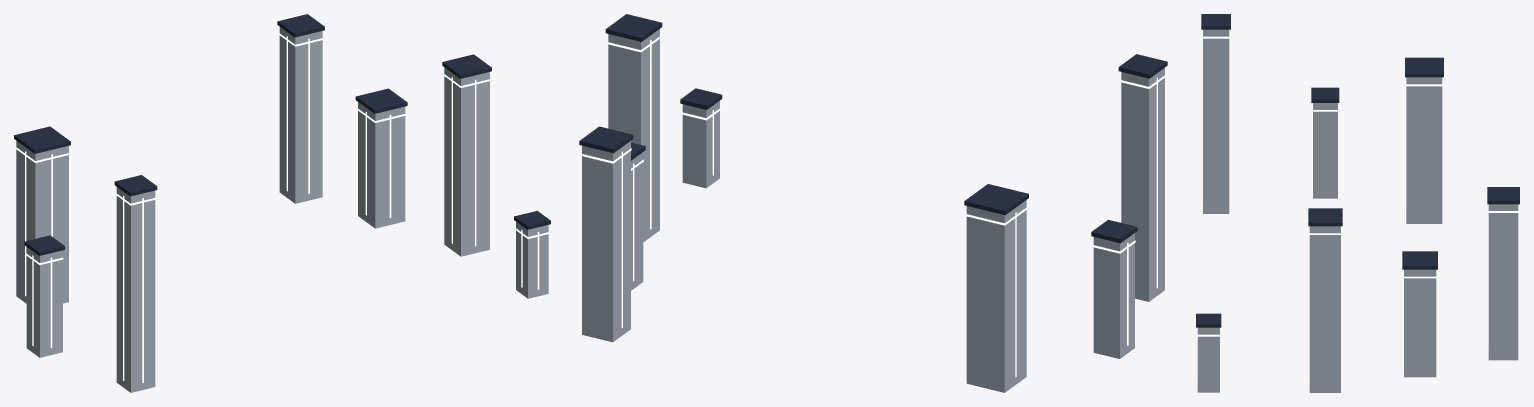
3 views of the same model, side by side, from view 1: azimuth 30°, elevation 25°; view 2: azimuth 150°, elevation 25°; view 3: azimuth 270°, elevation 25° (orthographic). The views are drawn at different scales.
Parts seen in each view (by area): view 1: nexo_spires_frontera.lod1; view 2: nexo_spires_frontera.lod1; view 3: nexo_spires_frontera.lod1.
Boxes of the visible parts, bbox=[...] form: nexo_spires_frontera.lod1: bbox=[14, 14, 550, 392]; nexo_spires_frontera.lod1: bbox=[579, 14, 1167, 392]; nexo_spires_frontera.lod1: bbox=[1196, 14, 1519, 392].
Bounding box in the file's own units: 26.37 × 11.22 × 17.49.
